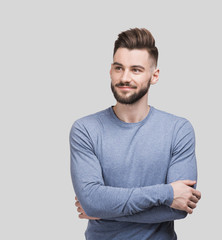young: (106, 20, 155, 110)
